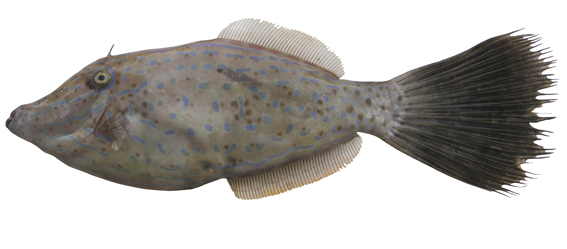fish: (7, 18, 557, 201)
